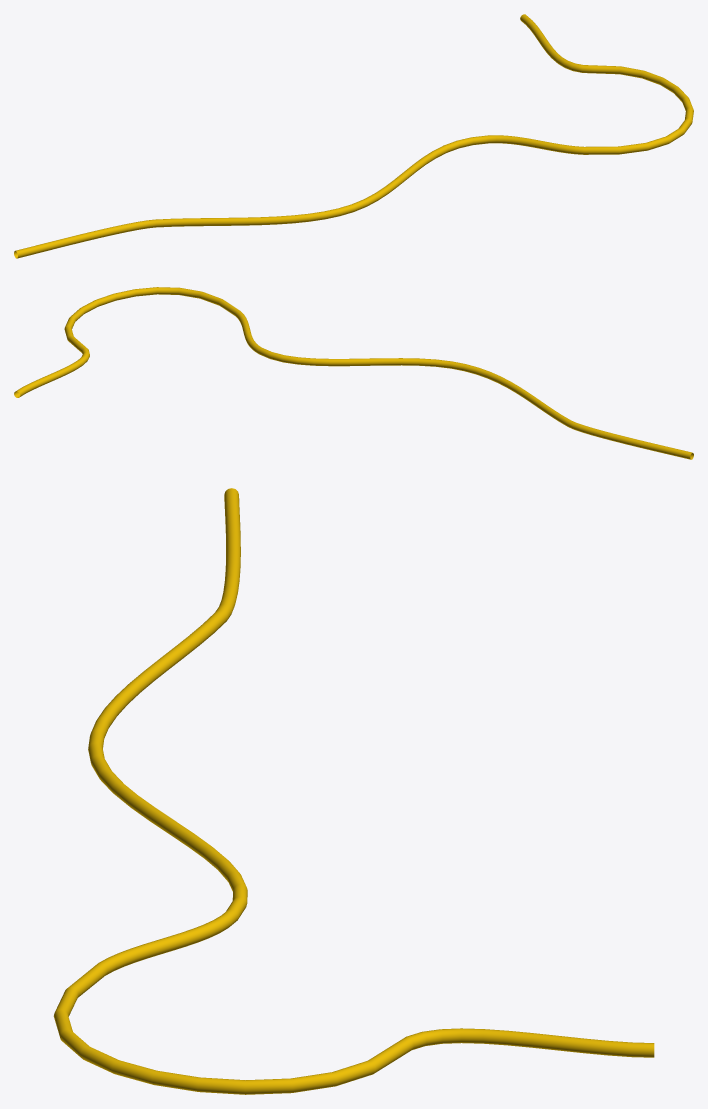
Rendered from cavoGrossoLungo.fbx.
The picture shows the model from 3 angles, top to bottom: view 1: azimuth 30°, elevation 25°; view 2: azimuth 150°, elevation 25°; view 3: azimuth 270°, elevation 25°; orthographic projection. The views are drawn at different scales.
Visible parts, largest first — view 1: BezierCurve; view 2: BezierCurve; view 3: BezierCurve.
Part boxes in pixels (bbox=[...]): BezierCurve: bbox=[14, 14, 693, 258]; BezierCurve: bbox=[14, 287, 693, 459]; BezierCurve: bbox=[53, 488, 654, 1094].
Bounding box in the file's own units: 764 × 8.62 × 326.
